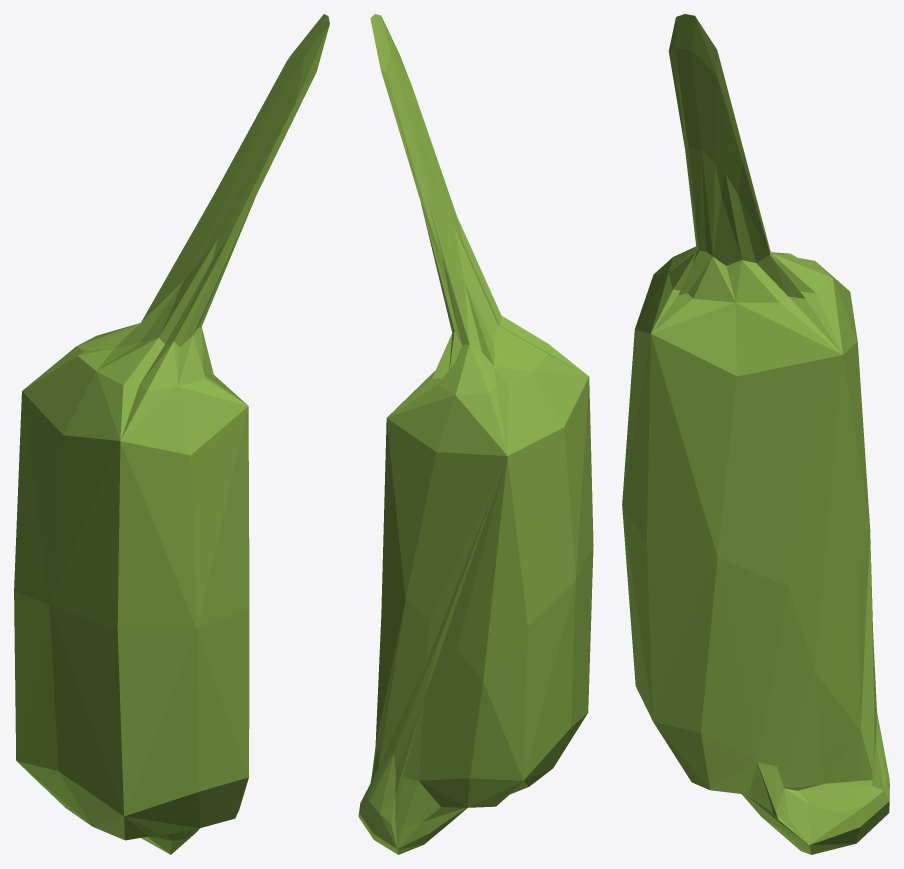
3 views of the same model, side by side, from view 1: azimuth 30°, elevation 25°; view 2: azimuth 150°, elevation 25°; view 3: azimuth 270°, elevation 25° (orthographic). The views are drawn at different scales.
Parts seen in each view (by area): view 1: 129_Cube.535; view 2: 129_Cube.535; view 3: 129_Cube.535.
Part boxes in pixels (x1=…): 129_Cube.535: x1=14, y1=14, x2=329, y2=854; 129_Cube.535: x1=358, y1=14, x2=593, y2=854; 129_Cube.535: x1=622, y1=14, x2=889, y2=854.
Bounding box in the file's own units: 6.93 × 22.53 × 6.15.
